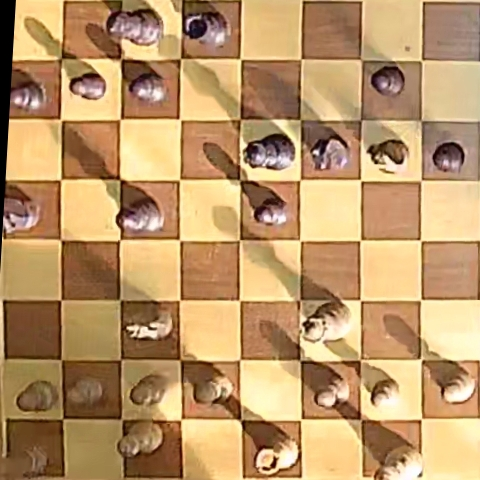black-bishop: (119, 198, 164, 232)
black-king: (107, 9, 163, 46)
black-knight: (4, 195, 40, 234), (310, 135, 349, 170)
black-pawn: (129, 73, 167, 103), (10, 81, 47, 111), (371, 66, 405, 97), (69, 72, 106, 100), (432, 142, 465, 173), (254, 199, 288, 226)
black-queen: (244, 134, 295, 170)
black-rook: (183, 11, 231, 47)
white-bishop: (119, 422, 163, 457)
white-king: (377, 445, 423, 479)
white-knight: (125, 306, 174, 340), (367, 139, 409, 172)
white-pawn: (17, 380, 58, 412), (131, 374, 169, 407), (315, 374, 350, 409), (193, 373, 232, 404), (440, 370, 475, 404), (67, 377, 104, 407), (371, 379, 399, 407)
white-queen: (303, 301, 350, 342)
white-rook: (0, 444, 50, 479), (256, 436, 299, 475)
